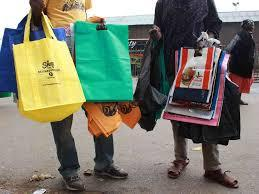Plastic bag: (1, 8, 131, 134), (138, 33, 256, 141)
